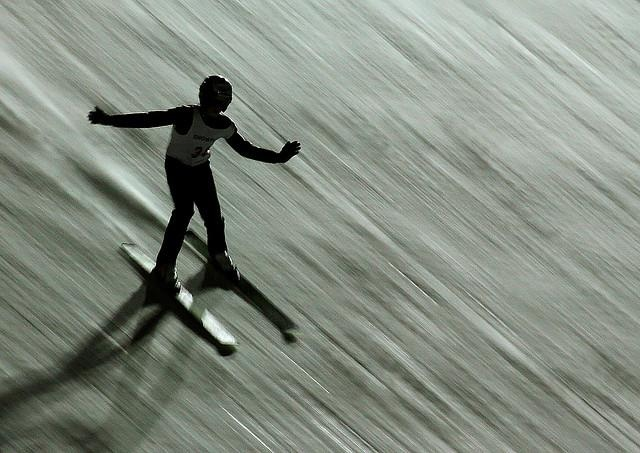person: (68, 79, 304, 295)
